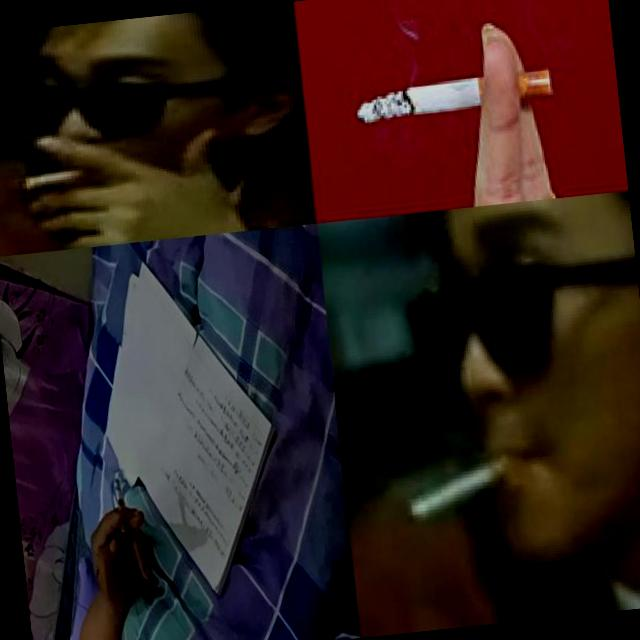cigarette: (353, 68, 554, 126), (402, 446, 526, 524), (21, 164, 96, 188), (114, 478, 128, 533)
